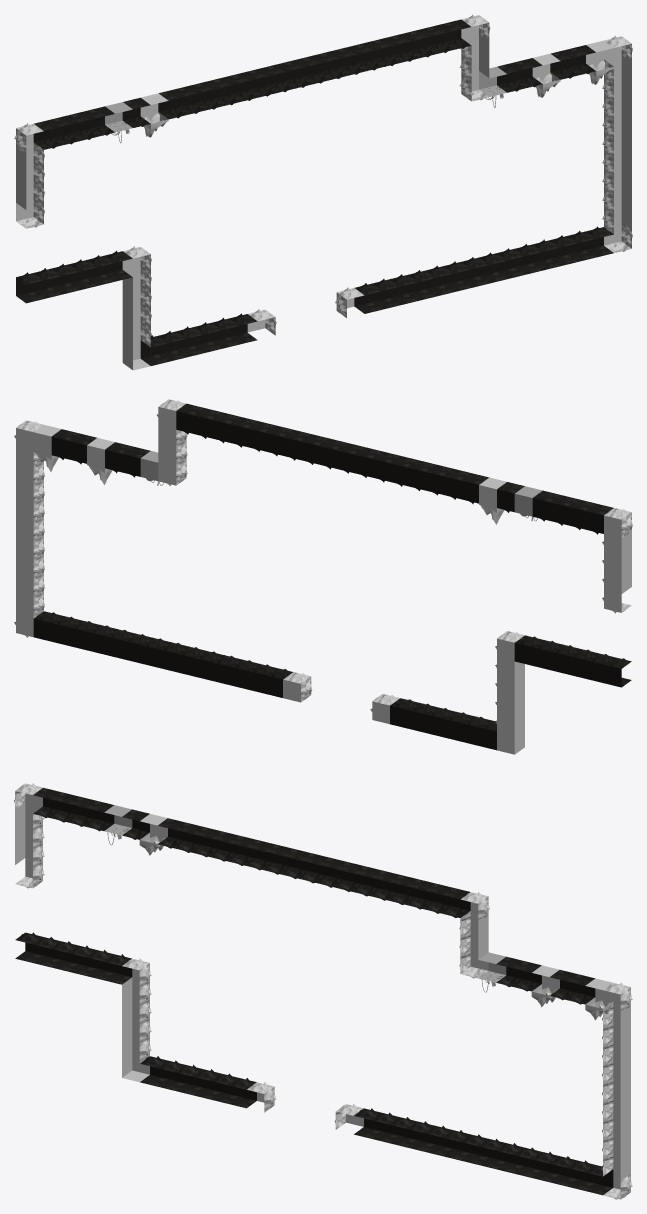
The model's file is Cubi_Room4.fbx.
3 renders of one model, top to bottom at view 1: azimuth 30°, elevation 25°; view 2: azimuth 150°, elevation 25°; view 3: azimuth 330°, elevation 25°, orthographic.
Visible parts, largest first — view 1: Cubes_Room4; view 2: Cubes_Room4; view 3: Cubes_Room4.
Part boxes in pixels (<box>): Cubes_Room4: <box>14,15,632,370</box>; Cubes_Room4: <box>14,399,632,754</box>; Cubes_Room4: <box>14,783,632,1199</box>.
Size of the model in its own units: 3445 by 1445 by 100.
